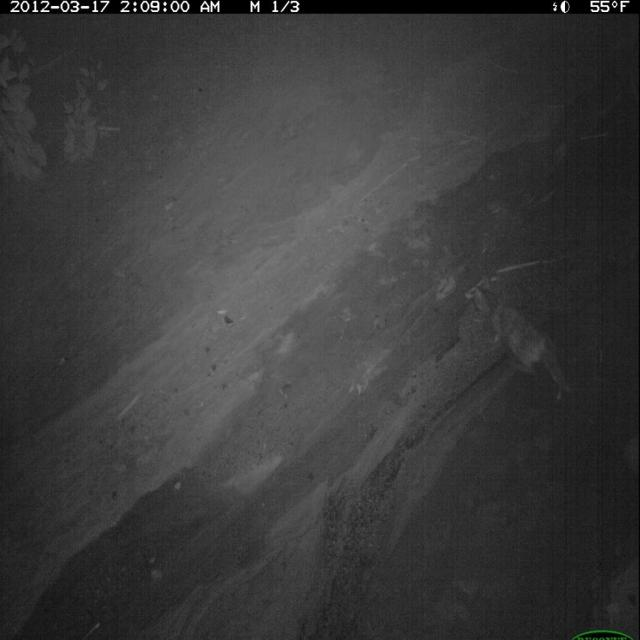cat: (471, 269, 578, 413)
